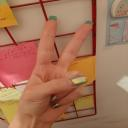PeaceSign: (17, 11, 96, 123)
